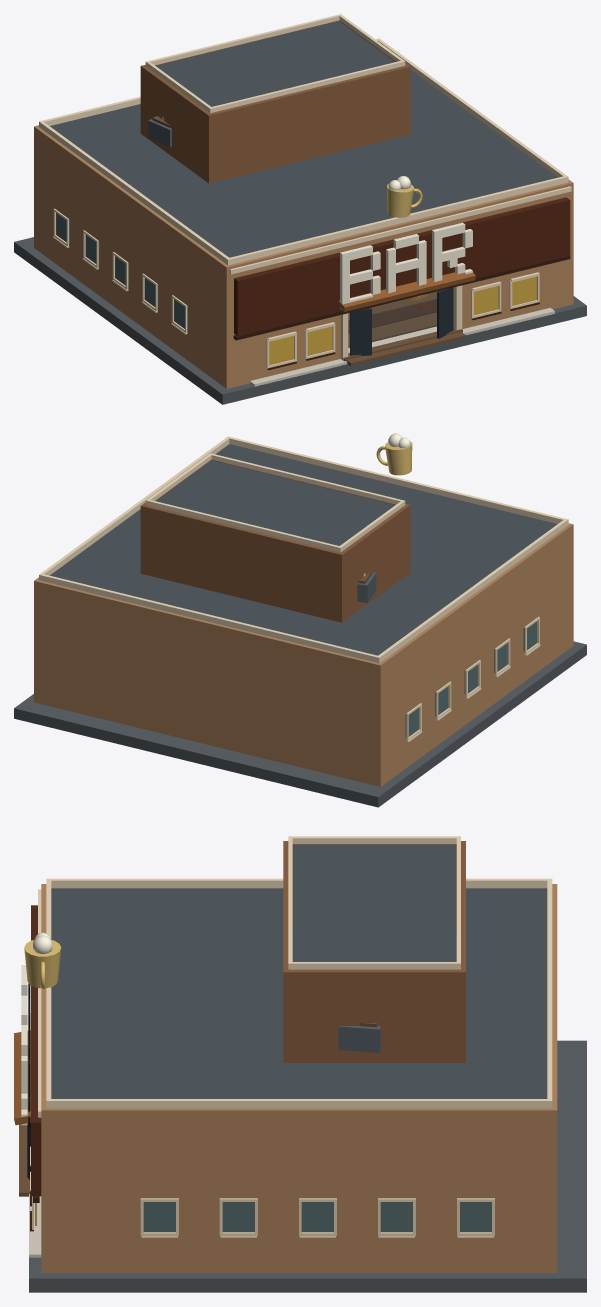
The model's file is bar-building.glb.
The picture shows the model from 3 angles, top to bottom: view 1: azimuth 30°, elevation 25°; view 2: azimuth 150°, elevation 25°; view 3: azimuth 270°, elevation 25°; orthographic projection. The views are drawn at different scales.
Parts seen in each view (by area): view 1: bar_cutaway_roof, bar_exterior_detail, bar_hull_wall_left, bar_cutaway_upper, bar_hull_wall_front, bar_foundation, bar_interior; view 2: bar_cutaway_roof, bar_hull_wall_back, bar_hull_wall_left, bar_cutaway_upper, bar_foundation, bar_exterior_detail, bar_hull_wall_front; view 3: bar_cutaway_roof, bar_hull_wall_right, bar_foundation, bar_cutaway_upper, bar_exterior_detail, bar_hull_wall_back, bar_hull_wall_front.
Part boxes in pixels (x1=…): bar_cutaway_roof: x1=39, y1=14, x2=568, y2=265; bar_exterior_detail: x1=53, y1=176, x2=571, y2=370; bar_hull_wall_left: x1=37, y1=128, x2=226, y2=385; bar_cutaway_upper: x1=140, y1=20, x2=410, y2=183; bar_hull_wall_front: x1=223, y1=180, x2=573, y2=388; bar_foundation: x1=14, y1=237, x2=586, y2=404; bar_interior: x1=348, y1=291, x2=438, y2=347; bar_cutaway_roof: x1=39, y1=436, x2=568, y2=663; bar_hull_wall_back: x1=34, y1=578, x2=383, y2=786; bar_hull_wall_left: x1=381, y1=526, x2=570, y2=784; bar_cutaway_upper: x1=140, y1=459, x2=410, y2=622; bar_foundation: x1=14, y1=641, x2=586, y2=807; bar_exterior_detail: x1=376, y1=433, x2=540, y2=742; bar_hull_wall_front: x1=567, y1=523, x2=573, y2=647; bar_cutaway_roof: x1=46, y1=836, x2=552, y2=1108; bar_hull_wall_right: x1=50, y1=1108, x2=548, y2=1272; bar_foundation: x1=19, y1=1040, x2=586, y2=1292; bar_cutaway_upper: x1=283, y1=841, x2=465, y2=1062; bar_exterior_detail: x1=14, y1=889, x2=494, y2=1237; bar_hull_wall_back: x1=548, y1=884, x2=557, y2=1272; bar_hull_wall_front: x1=41, y1=884, x2=50, y2=1272.
Bounding box in the file's own units: 22.8 × 12.22 × 23.21.
